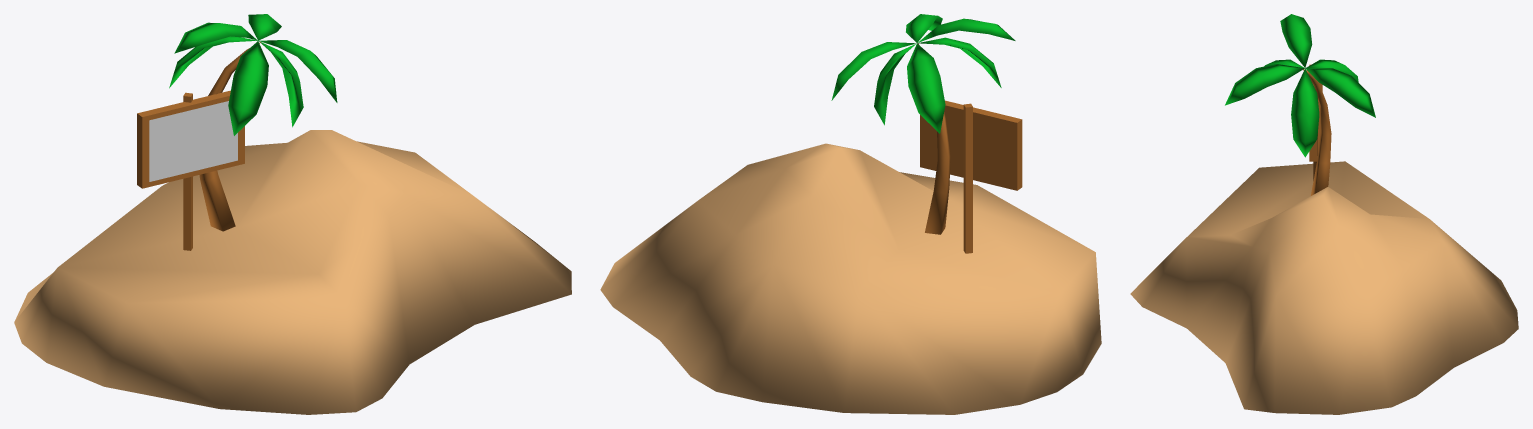
File: IslandObjects.fbx
3 renders of one model, left to right at view 1: azimuth 30°, elevation 25°; view 2: azimuth 150°, elevation 25°; view 3: azimuth 270°, elevation 25°, orthographic. The views are drawn at different scales.
Visible parts, largest first — view 1: Island, PalmTree, SignPost; view 2: Island, PalmTree, SignPost; view 3: Island, PalmTree.
Boxes of the visible parts, left/top/right/bottom form: Island: left=14, top=130, right=571, bottom=414; PalmTree: left=169, top=14, right=337, bottom=231; SignPost: left=137, top=90, right=244, bottom=250; Island: left=600, top=143, right=1101, bottom=414; PalmTree: left=831, top=14, right=1015, bottom=234; SignPost: left=920, top=100, right=1022, bottom=253; Island: left=1130, top=161, right=1518, bottom=414; PalmTree: left=1225, top=14, right=1375, bottom=195.
Size of the model in its own units: 326 by 206 by 280.
